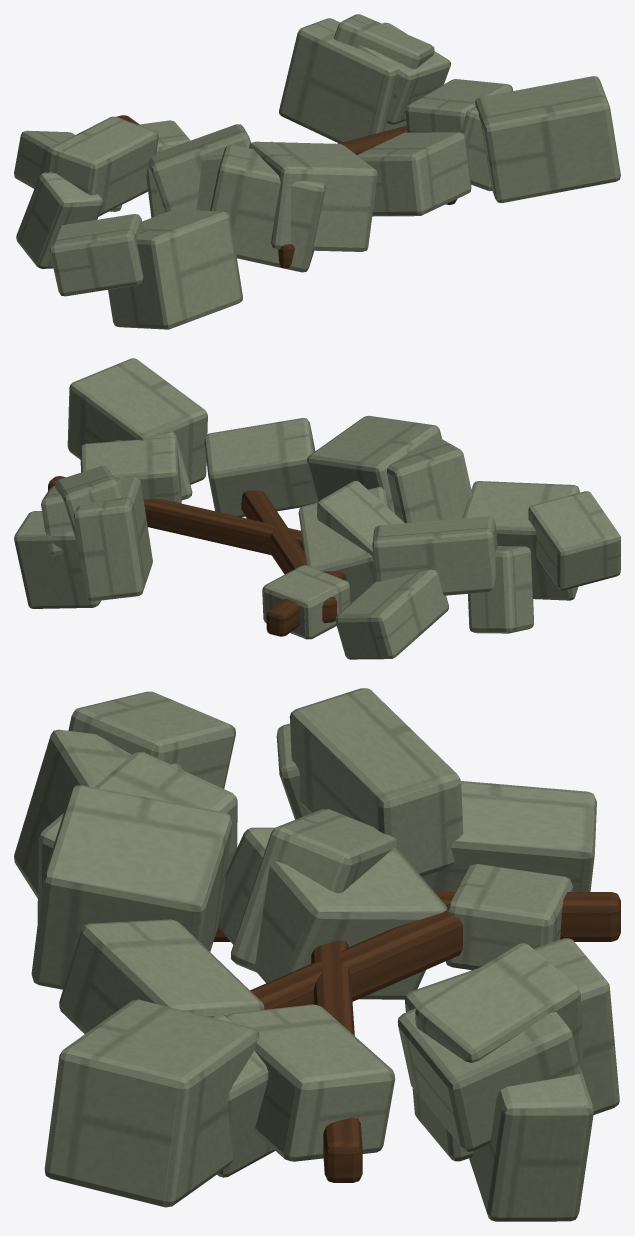
The model's file is rubble.glb.
3 views of the same model, one above another, from view 1: azimuth 30°, elevation 25°; view 2: azimuth 150°, elevation 25°; view 3: azimuth 270°, elevation 25° (orthographic). The views are drawn at different scales.
Visible parts, largest first — view 1: broken_masonry.014, broken_masonry, broken_masonry.008, broken_masonry.011, broken_masonry.016, broken_masonry.012, broken_masonry.009, broken_masonry.001, broken_masonry.003, broken_masonry.005, broken_masonry.013, broken_masonry.007 (+6 smaller); view 2: broken_masonry.014, broken_masonry.012, broken_masonry.009, broken_masonry.008, broken_masonry.017, broken_masonry.001, broken_masonry.011, broken_masonry.016, broken_masonry, broken_masonry.004, broken_masonry.003, broken_masonry.013 (+9 smaller); view 3: broken_masonry.014, broken_masonry.011, broken_masonry.009, broken_masonry.010, broken_masonry.013, broken_masonry.012, broken_masonry.004, broken_masonry.017, broken_masonry.015, broken_masonry.007, broken_masonry.002, broken_masonry.005 (+9 smaller).
Part boxes in pixels (x1,y1,x2,y2): broken_masonry.014: (475,76,620,202); broken_masonry: (108,209,242,329); broken_masonry.008: (279,18,406,143); broken_masonry.011: (249,141,377,251); broken_masonry.016: (210,144,325,272); broken_masonry.012: (357,132,471,216); broken_masonry.009: (46,116,158,216); broken_masonry.001: (50,214,143,296); broken_masonry.003: (16,172,103,268); broken_masonry.005: (148,124,251,212); broken_masonry.013: (405,79,512,132); broken_masonry.007: (334,14,434,68); broken_masonry.014: (67,358,207,484); broken_masonry.012: (204,418,316,517); broken_masonry.009: (372,516,497,595); broken_masonry.008: (73,477,152,601); broken_masonry.017: (335,569,448,659); broken_masonry.001: (528,491,620,590); broken_masonry.011: (307,415,441,513); broken_masonry.016: (387,438,471,523); broken_masonry: (462,481,579,600); broken_masonry.004: (14,511,101,608); broken_masonry.003: (468,546,533,633); broken_masonry.013: (80,437,181,503); broken_masonry.014: (44,999,259,1207); broken_masonry.011: (31,785,232,989); broken_masonry.009: (289,688,463,876); broken_masonry.010: (218,827,446,999); broken_masonry.013: (226,1004,395,1161); broken_masonry.012: (59,919,264,1033); broken_masonry.004: (469,1065,594,1221); broken_masonry.017: (421,781,596,891); broken_masonry.015: (397,1008,580,1151); broken_masonry.007: (415,943,583,1066); broken_masonry.002: (446,864,572,970); broken_masonry.005: (231,809,397,972).
Bounding box in the file's own units: 2.77 × 0.6623 × 1.6.
2 materials, 2 textured.
